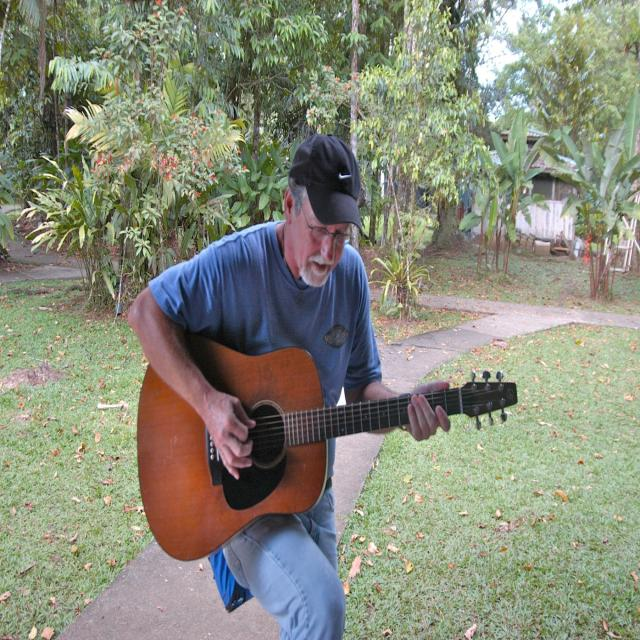guitar: (135, 330, 519, 566)
